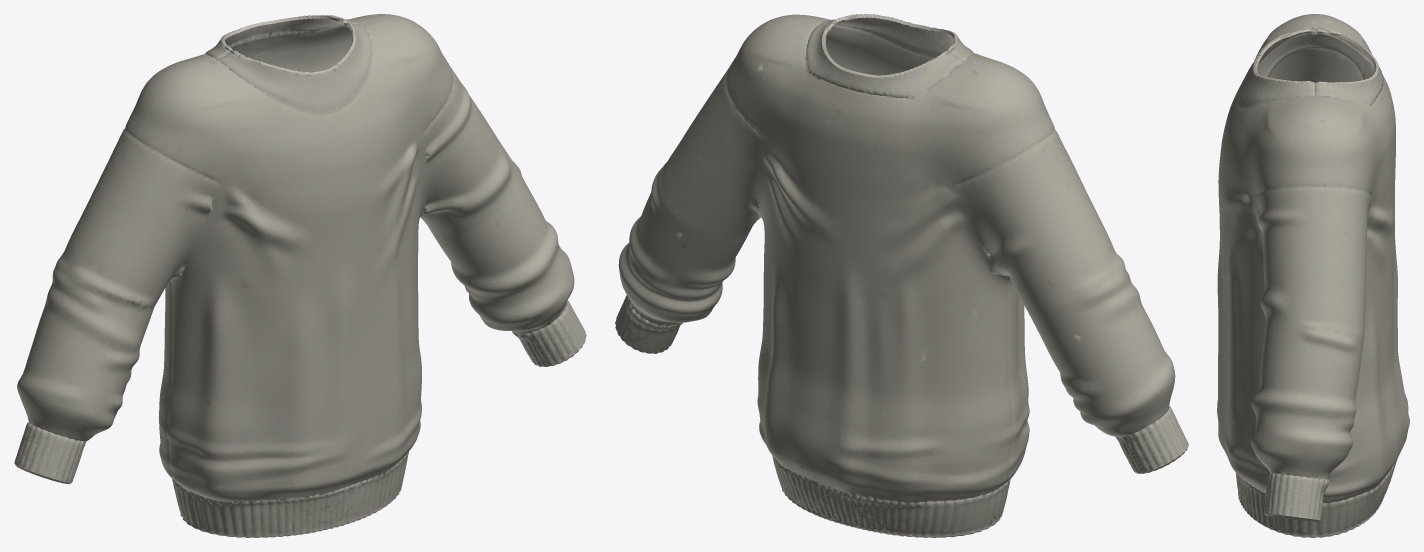
The model's file is 05_sudadera_cuello_redondo_pbr.glb.
The picture shows the model from 3 angles, left to right: view 1: azimuth 30°, elevation 25°; view 2: azimuth 150°, elevation 25°; view 3: azimuth 270°, elevation 25°; orthographic projection. The views are drawn at different scales.
Visible parts, largest first — view 1: Camiseta PBR; view 2: Camiseta PBR; view 3: Camiseta PBR.
Part boxes in pixels (left/top/right/bottom): Camiseta PBR: left=14, top=14, right=586, bottom=537; Camiseta PBR: left=615, top=14, right=1188, bottom=537; Camiseta PBR: left=1217, top=14, right=1409, bottom=537.
Size of the model in its own units: 0.982 by 0.7754 by 0.3102.
Materials: 1 (1 with a texture image).
